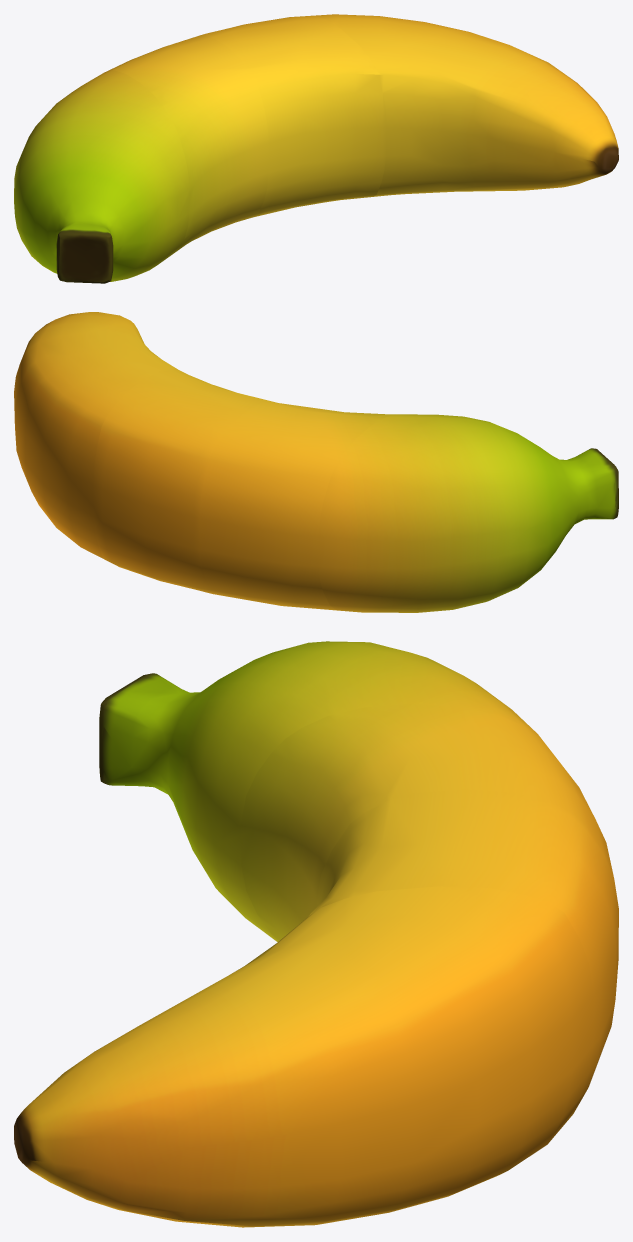
The model's file is banana.fbx.
3 renders of one model, top to bottom at view 1: azimuth 30°, elevation 25°; view 2: azimuth 150°, elevation 25°; view 3: azimuth 270°, elevation 25°, orthographic. The views are drawn at different scales.
Visible parts, largest first — view 1: banana.001, banana, banana.002, banana.003; view 2: banana, banana.003, banana.002, banana.001; view 3: banana.001, banana, banana.003, banana.002.
Part boxes in pixels (x1=…): banana.001: x1=311, y1=14, x2=618, y2=196; banana: x1=14, y1=70, x2=189, y2=283; banana.002: x1=200, y1=15, x2=386, y2=216; banana.003: x1=107, y1=35, x2=268, y2=250; banana: x1=318, y1=414, x2=618, y2=612; banana.003: x1=199, y1=401, x2=395, y2=610; banana.002: x1=93, y1=368, x2=269, y2=595; banana.001: x1=14, y1=312, x2=176, y2=558; banana.001: x1=14, y1=886, x2=593, y2=1227; banana: x1=99, y1=641, x2=541, y2=942; banana.003: x1=241, y1=704, x2=612, y2=940; banana.002: x1=310, y1=789, x2=618, y2=1122.
Size of the model in its own units: 1.13 by 0.3275 by 0.6408.
